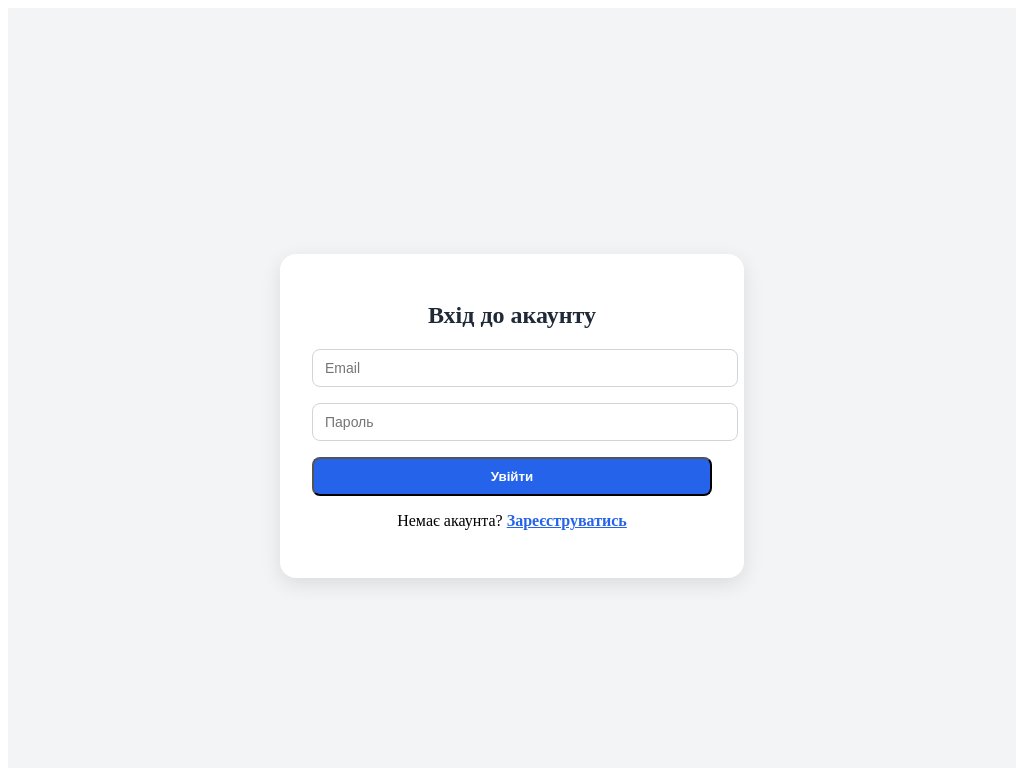
Test: LoginPage › displays an error message if signIn returns an error
Type "test@example.com" into the field with placeholder "Email" at (525, 368), box [312, 349, 738, 387]
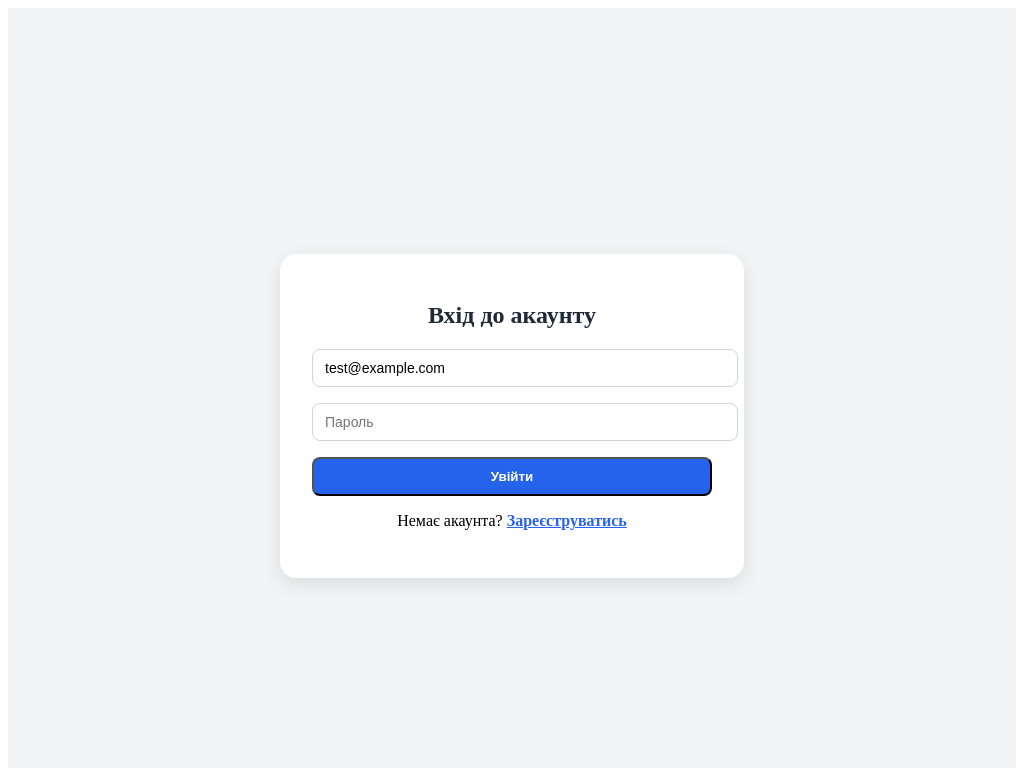
Type "wrongpassword" into the password field with placeholder "Пароль" at (525, 422), box [312, 403, 738, 441]
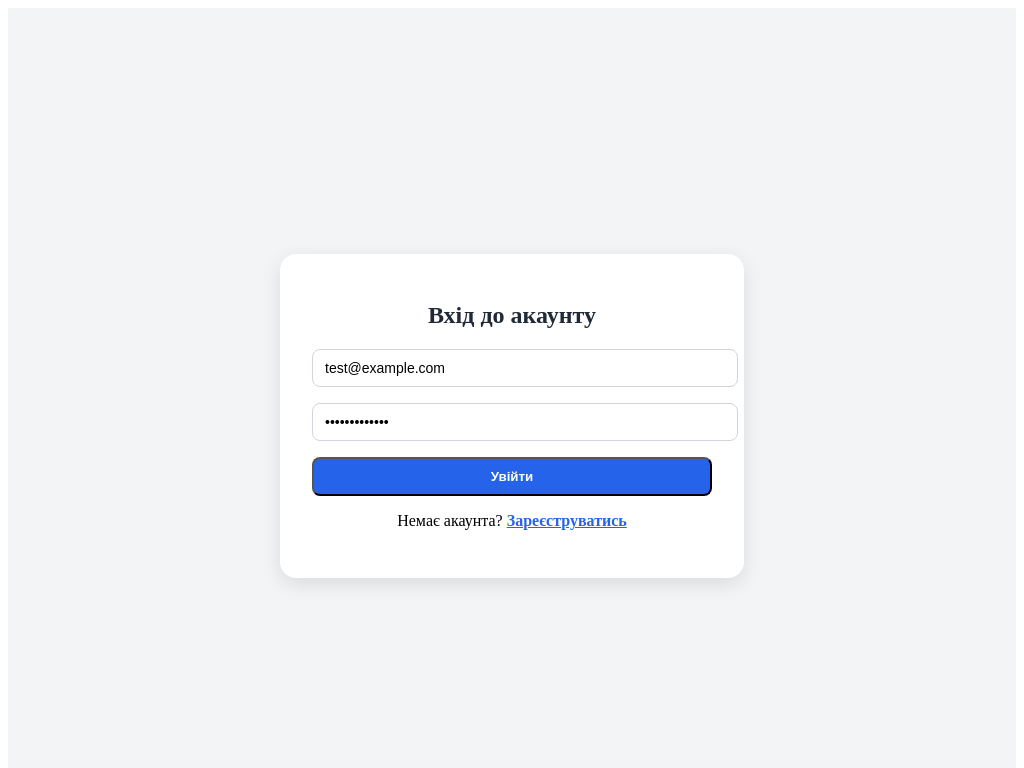
Click the button "Увійти" at (512, 476), box [312, 457, 712, 496]
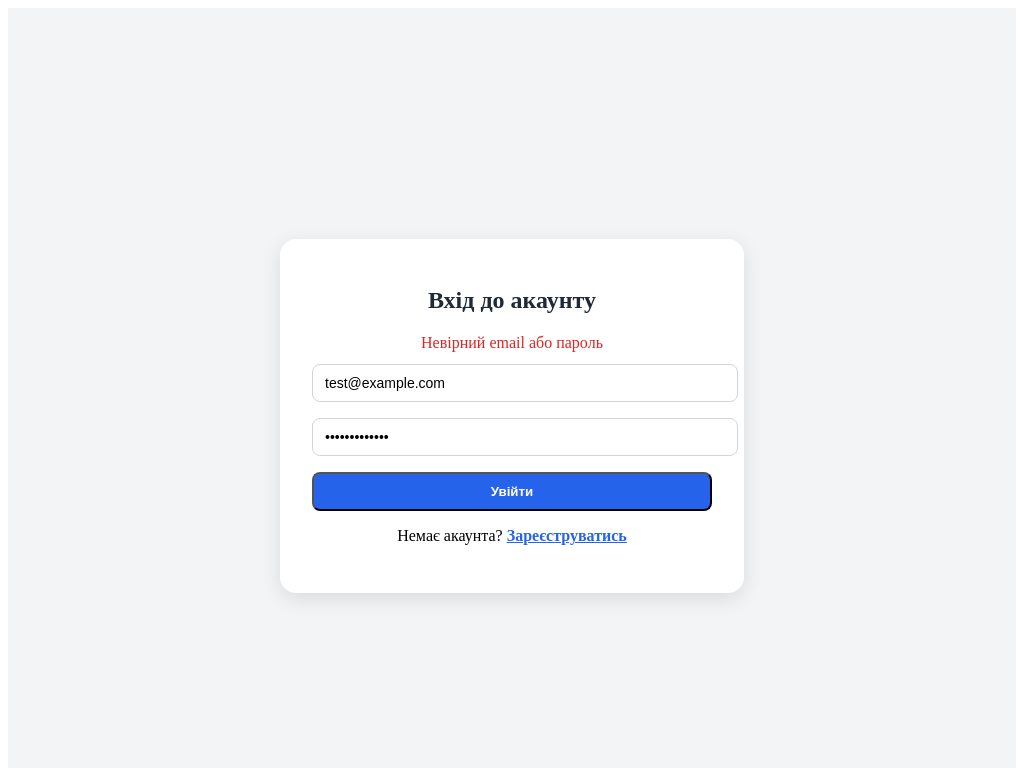
Expected: the text "Невірний email або пароль" is shown, [421, 334, 603, 351]
